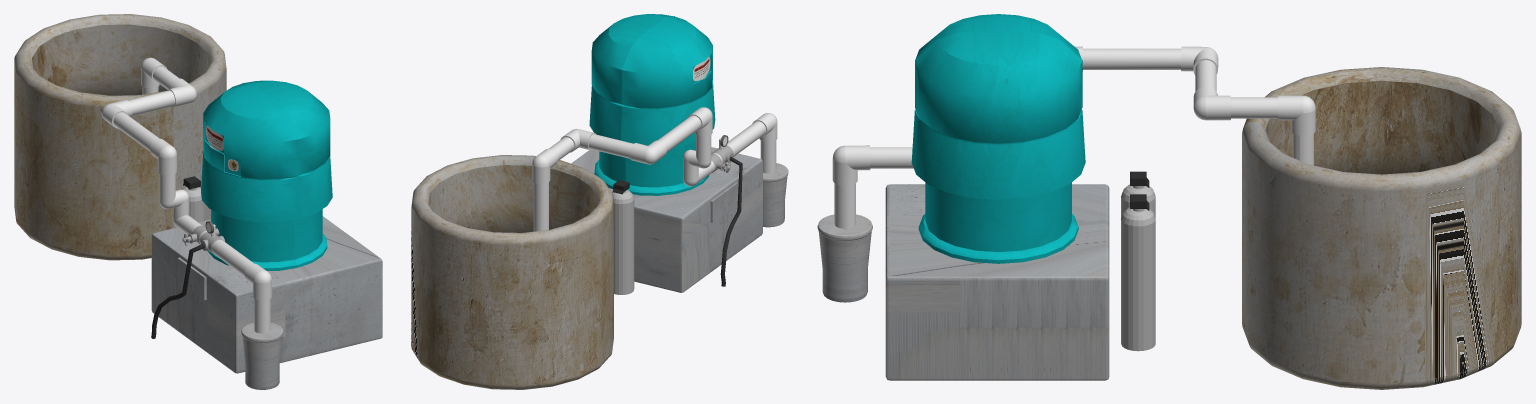
The model's file is wellTextured.fbx.
The picture shows the model from 3 angles, left to right: view 1: azimuth 30°, elevation 25°; view 2: azimuth 150°, elevation 25°; view 3: azimuth 270°, elevation 25°; orthographic projection. The views are drawn at different scales.
Visible parts, largest first — view 1: well, tank, base, pipeline, thing1, edge5, edge4, pipe, edge2, tank1, edge1, edge3; view 2: well, tank, base, pipeline, tank1, thing1, edge3, edge1, pipe, edge4, edge5, edge2; view 3: well, tank, base, pipeline, tank2, thing1, edge5, edge1, edge2, edge3.
Boxes of the visible parts, x1,y1,x2,y2 form: well: [14, 14, 226, 260]; tank: [201, 80, 332, 270]; base: [151, 216, 382, 373]; pipeline: [113, 66, 270, 333]; thing1: [241, 322, 283, 389]; edge5: [244, 263, 271, 300]; edge4: [149, 138, 176, 175]; pipe: [151, 244, 204, 338]; edge2: [167, 78, 196, 107]; tank1: [182, 187, 205, 222]; edge1: [141, 57, 167, 88]; edge3: [101, 100, 132, 128]; well: [411, 155, 613, 389]; tank: [589, 14, 715, 195]; base: [571, 147, 762, 292]; pipeline: [533, 115, 776, 231]; tank1: [612, 190, 634, 294]; thing1: [763, 163, 788, 227]; edge3: [629, 140, 666, 164]; edge1: [532, 148, 558, 183]; pipe: [720, 156, 742, 286]; edge4: [687, 107, 712, 136]; edge5: [752, 113, 777, 141]; edge2: [560, 128, 596, 152]; well: [1242, 67, 1521, 389]; tank: [911, 14, 1085, 263]; base: [885, 184, 1109, 380]; pipeline: [834, 48, 1313, 228]; tank2: [1121, 207, 1155, 351]; thing1: [817, 214, 872, 302]; edge5: [832, 145, 870, 185]; edge1: [1278, 95, 1315, 135]; edge2: [1193, 86, 1230, 120]; edge3: [1181, 46, 1218, 75].
Size of the model in its own units: 4.76 by 5.68 by 11.77.
8 materials, 4 textured.
